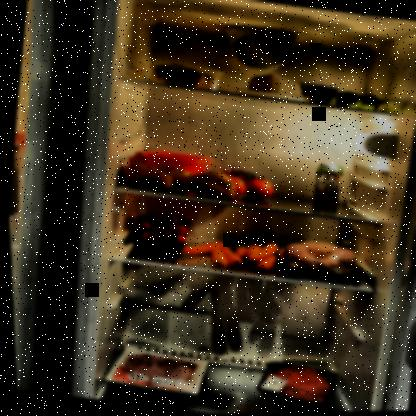butter: (138, 145, 212, 179)
carrot: (178, 232, 281, 277)
cheese: (245, 70, 283, 97)
chicken: (274, 235, 361, 287)
ground_beef: (250, 359, 339, 412)
heavy_cream: (307, 159, 342, 213)
lime: (324, 87, 389, 114)
potato: (143, 57, 220, 92)
strawberries: (128, 208, 194, 252)
sweet_potato: (115, 155, 239, 206)
tomato: (213, 162, 279, 204)
